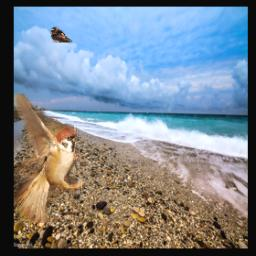Sparrow: (14, 94, 82, 224)
Swallow: (50, 27, 72, 43)
